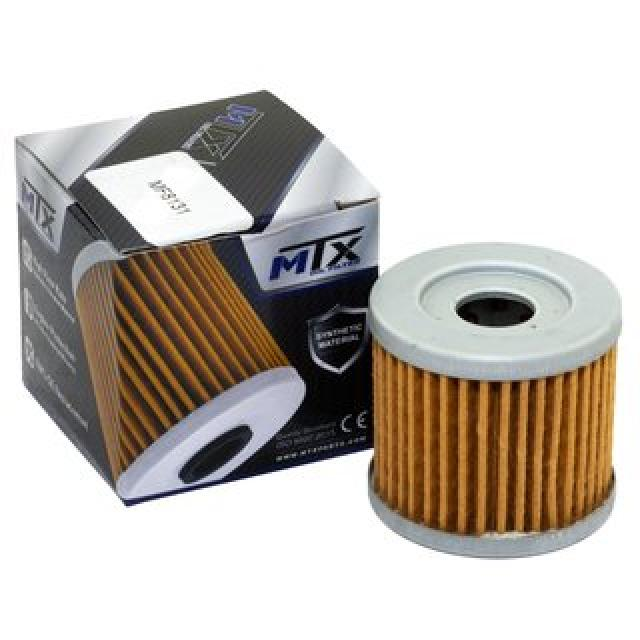oil_filter: (362, 238, 634, 561)
